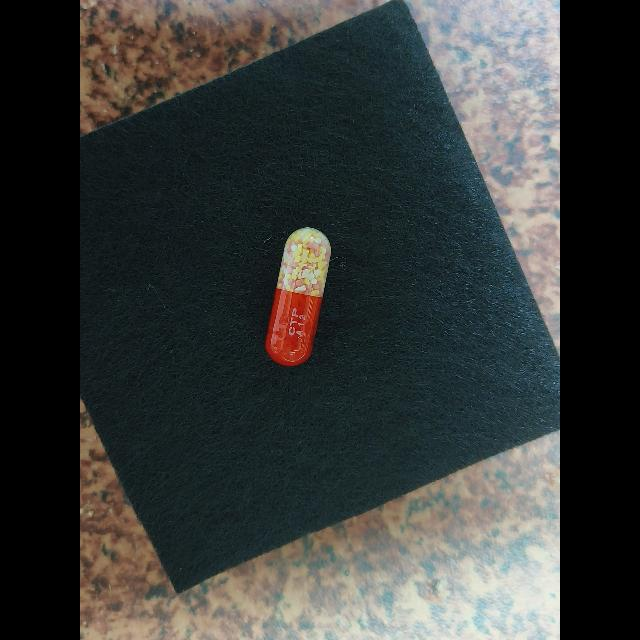Intact Capsule: (264, 227, 331, 366)
